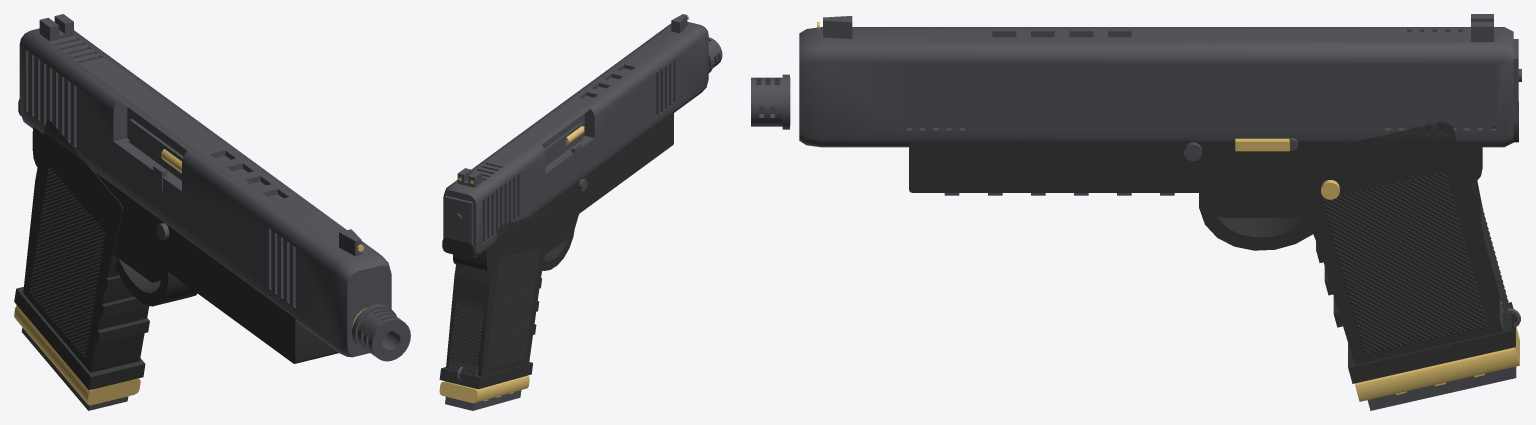
Rendered from Pistol.glb.
3 renders of one model, left to right at view 1: azimuth 30°, elevation 25°; view 2: azimuth 150°, elevation 25°; view 3: azimuth 270°, elevation 25°, orthographic. The views are drawn at different scales.
Parts seen in each view (by area): view 1: Slide, PistolBody, Magazine; view 2: Slide, PistolBody, Magazine; view 3: Slide, PistolBody, Magazine.
Part boxes in pixels (x1,y1,x2,y2): Slide: (19,14,391,357); PistolBody: (14,99,410,390); Magazine: (14,305,140,410); Slide: (443,14,708,257); PistolBody: (439,37,722,389); Magazine: (439,361,529,410); Slide: (799,14,1521,147); PistolBody: (751,74,1520,383); Magazine: (1355,297,1519,410).
Size of the model in its own units: 0.0403 by 0.2297 by 0.4208.
